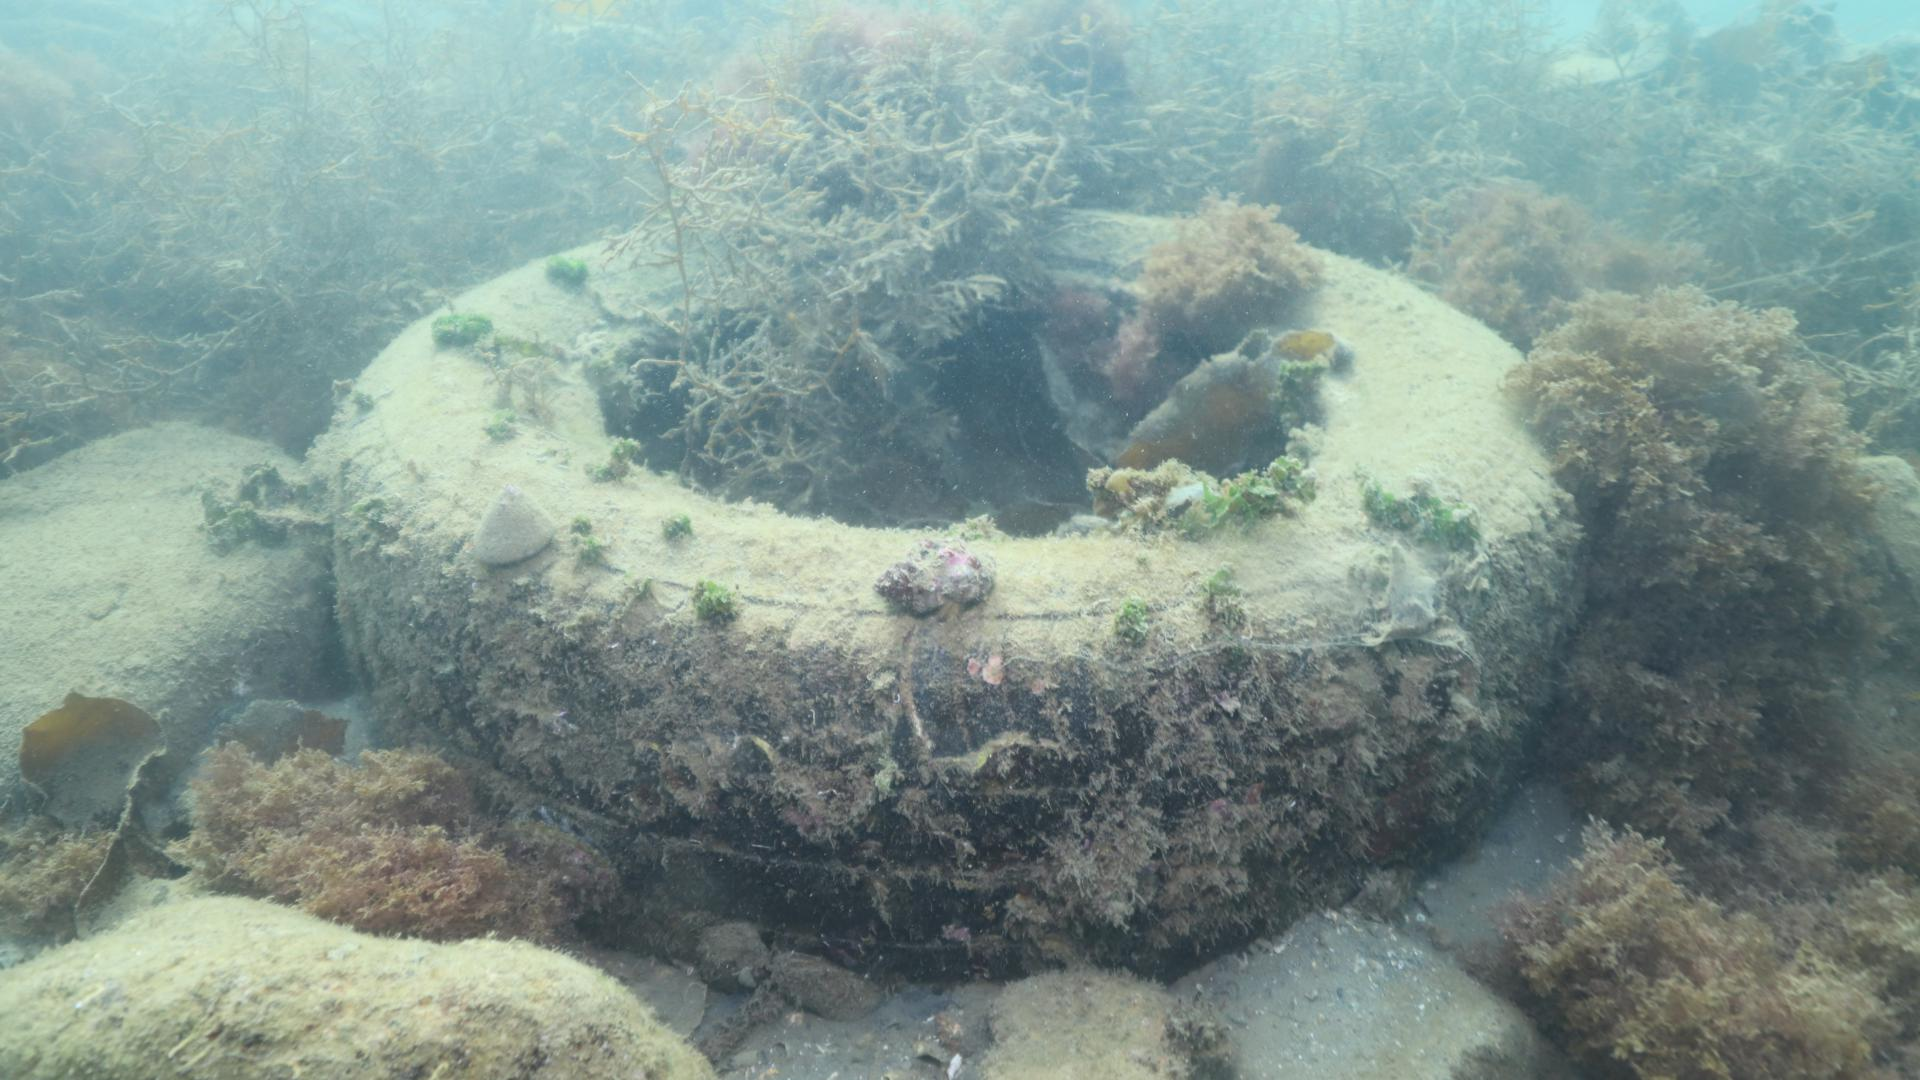tire: (338, 207, 1586, 986)
